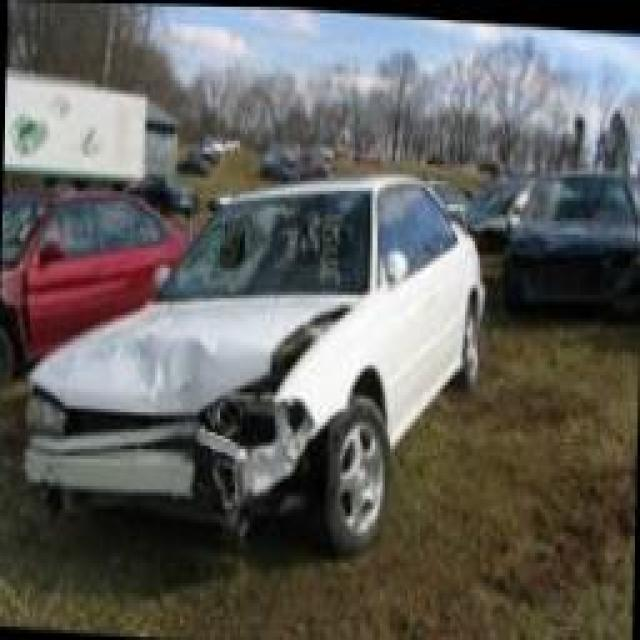Bumper: (12, 436, 312, 560)
Light: (198, 389, 315, 465)
